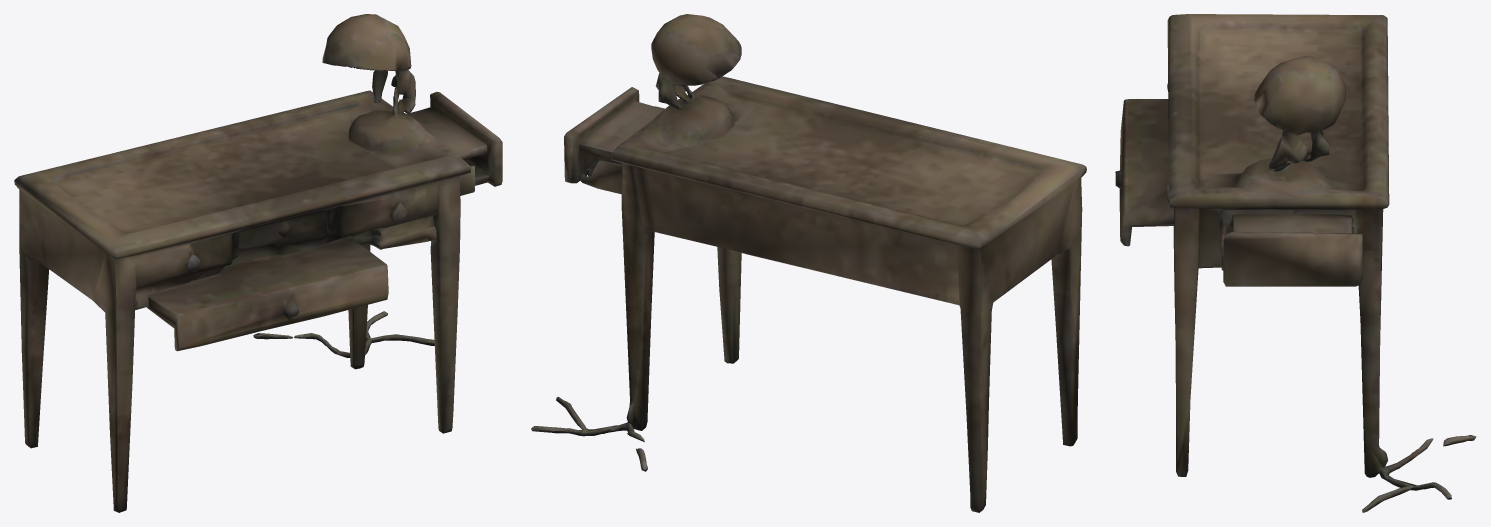
The model's file is weathered-wood-desk-v003.glb.
The picture shows the model from 3 angles, left to right: view 1: azimuth 30°, elevation 25°; view 2: azimuth 150°, elevation 25°; view 3: azimuth 270°, elevation 25°; orthographic projection. The views are drawn at different scales.
Parts seen in each view (by area): view 1: weathered-wood-desk; view 2: weathered-wood-desk; view 3: weathered-wood-desk.
Part boxes in pixels (x1,y1,x2,y2): weathered-wood-desk: [14, 14, 502, 512]; weathered-wood-desk: [531, 14, 1086, 512]; weathered-wood-desk: [1115, 14, 1476, 512].
Bounding box in the file's own units: 0.8785 × 0.7597 × 0.6133.
1 material, 1 textured.
